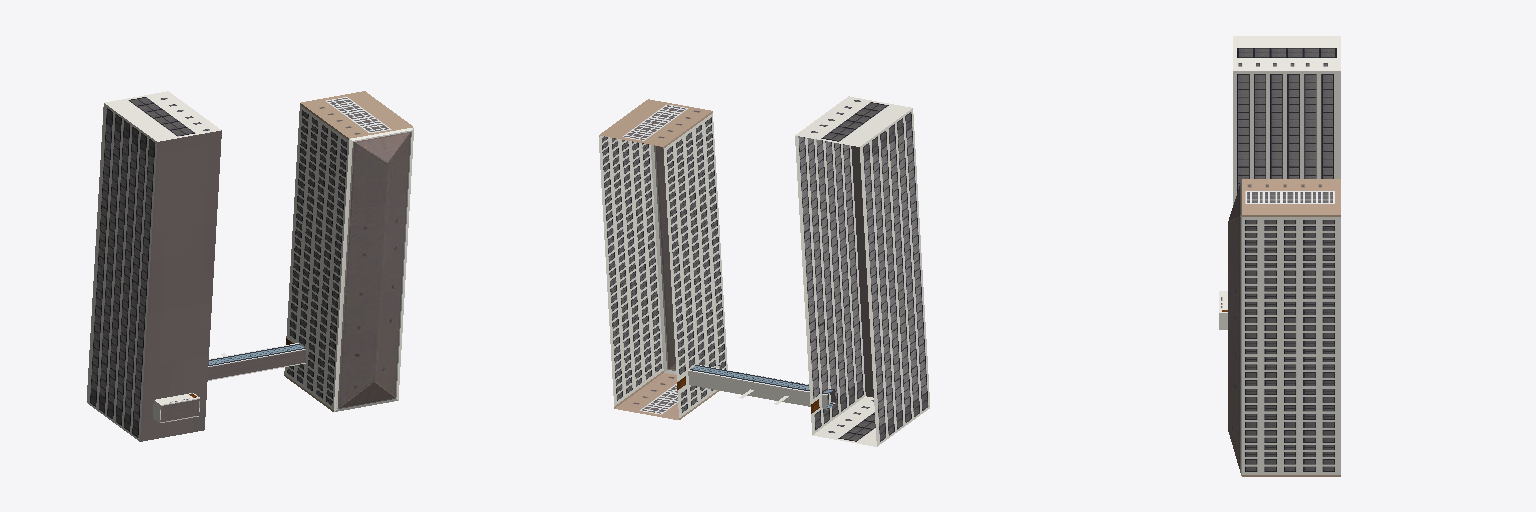
The picture shows the model from 3 angles: view 1: azimuth 30°, elevation 25°; view 2: azimuth 150°, elevation 25°; view 3: azimuth 270°, elevation 25°; orthographic projection.
Parts seen in each view (by area): view 1: Light; view 2: Light; view 3: Light.
Boxes of the visible parts, <box> form: Light: <box>87,91,413,441</box>; Light: <box>599,96,929,446</box>; Light: <box>1219,36,1340,476</box>.
Size of the model in its own units: 67.33 by 74.33 by 25.41.
1 materials, 1 textured.